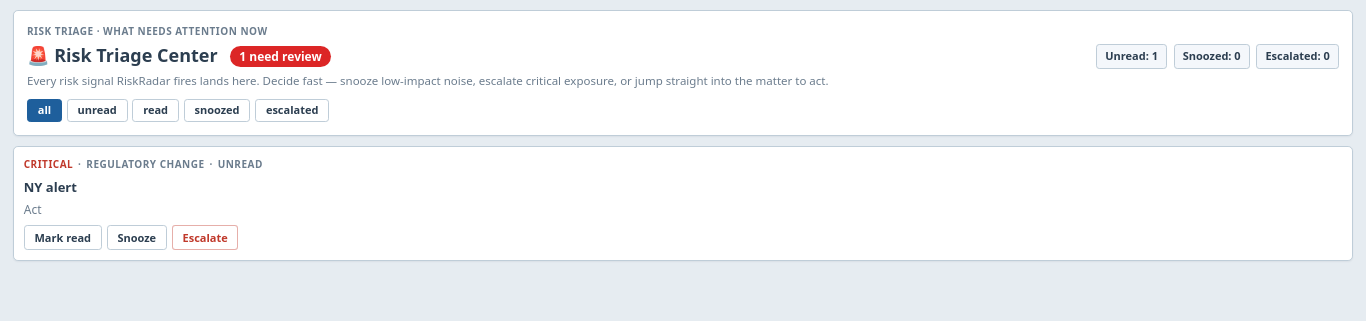
AlertsPage › updates the queue and counters when escalating an alert
Expected: the text "NY alert" is shown, top-left (24, 178), bottom-right (77, 196)
Click the button "Escalate": coordinates (205, 238) top-left (172, 225), bottom-right (238, 250)
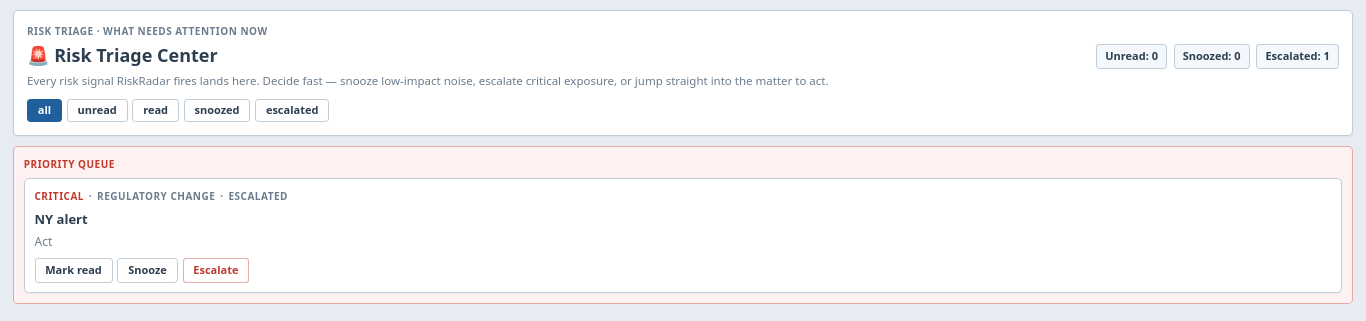
Expected: the text "Escalated: 1" is shown, top-left (1256, 44), bottom-right (1339, 69)
